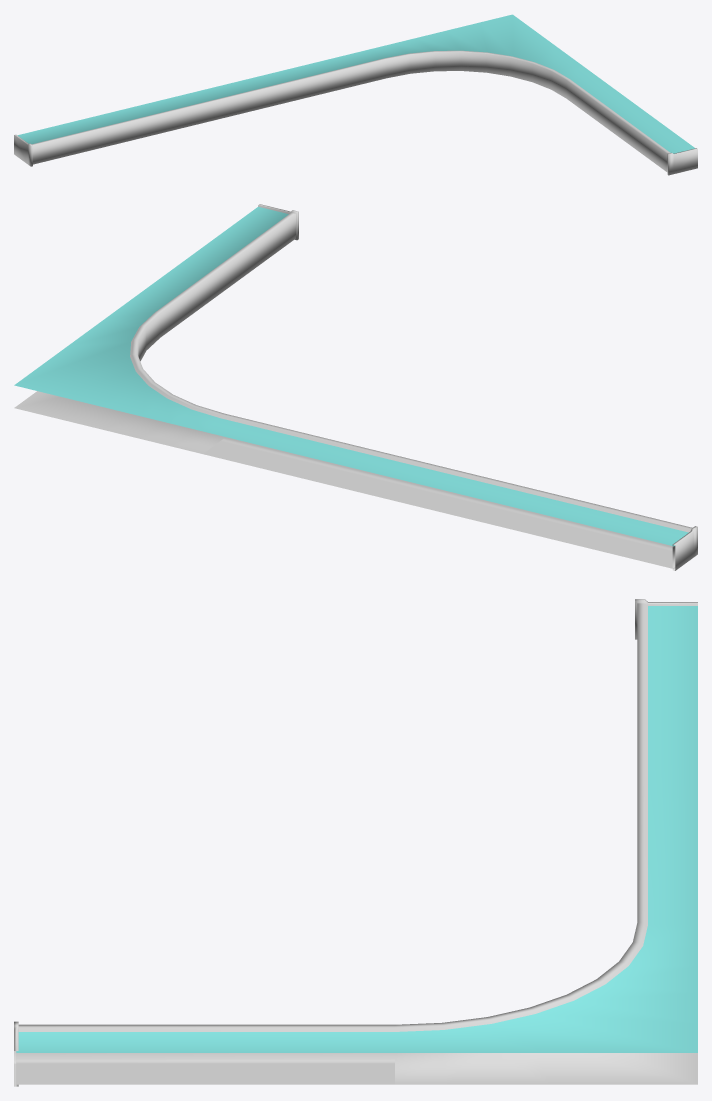
The model's file is HangLedgeCorner.fbx.
The picture shows the model from 3 angles, top to bottom: view 1: azimuth 30°, elevation 25°; view 2: azimuth 150°, elevation 25°; view 3: azimuth 270°, elevation 25°; orthographic projection. The views are drawn at different scales.
Visible parts, largest first — view 1: HangLedgeCorner; view 2: HangLedgeCorner; view 3: HangLedgeCorner.
Boxes of the visible parts, x1,y1,x2,y2 form: HangLedgeCorner: [14, 14, 697, 175]; HangLedgeCorner: [14, 204, 697, 570]; HangLedgeCorner: [14, 599, 697, 1086].
Bounding box in the file's own units: 7.01 × 0.28 × 4.51.
